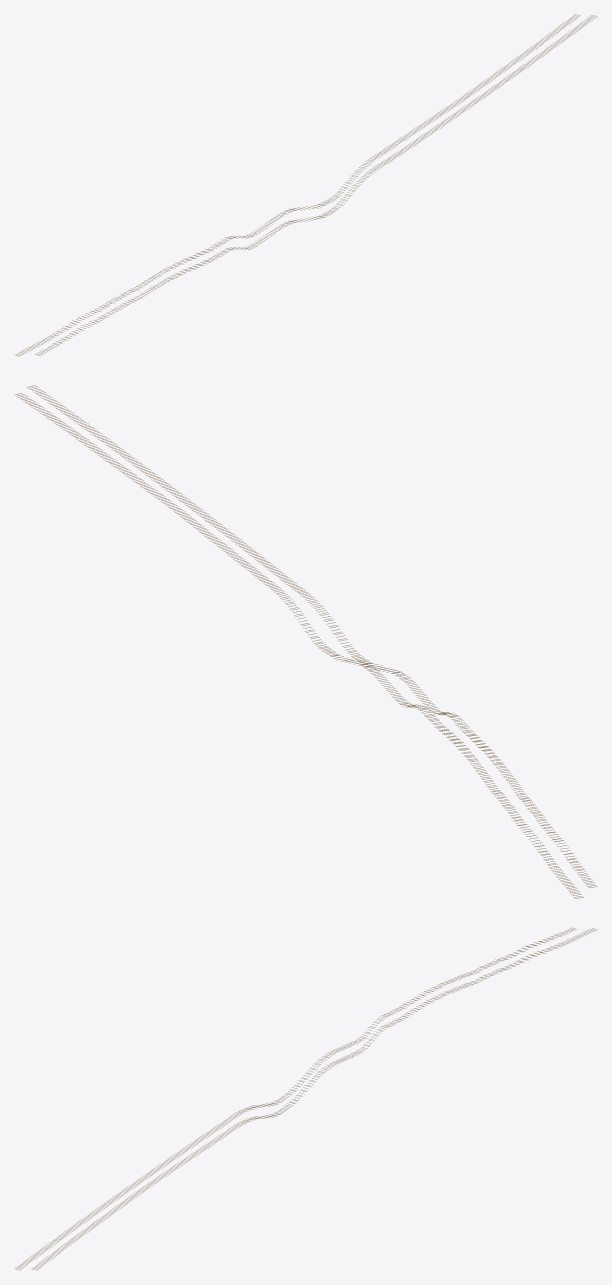
The model's file is c_1624_17829_rail_sleeper.glb.
3 views of the same model, one above another, from view 1: azimuth 90°, elevation 25°; view 2: azimuth 150°, elevation 25°; view 3: azimuth 270°, elevation 25° (orthographic). The views are drawn at different scales.
Visible parts, largest first — view 1: geometry_0; view 2: geometry_0; view 3: geometry_0.
Part boxes in pixels (box(x1,y1,x2,y2)): geometry_0: box(14, 14, 597, 356); geometry_0: box(14, 385, 597, 898); geometry_0: box(14, 927, 597, 1270).
Bounding box in the file's own units: 257 × 8.66 × 185.
